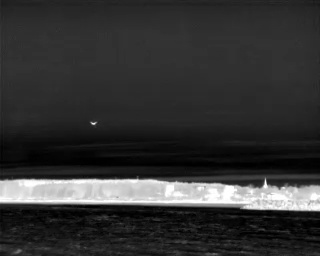BIRD: (88, 118, 99, 129)
